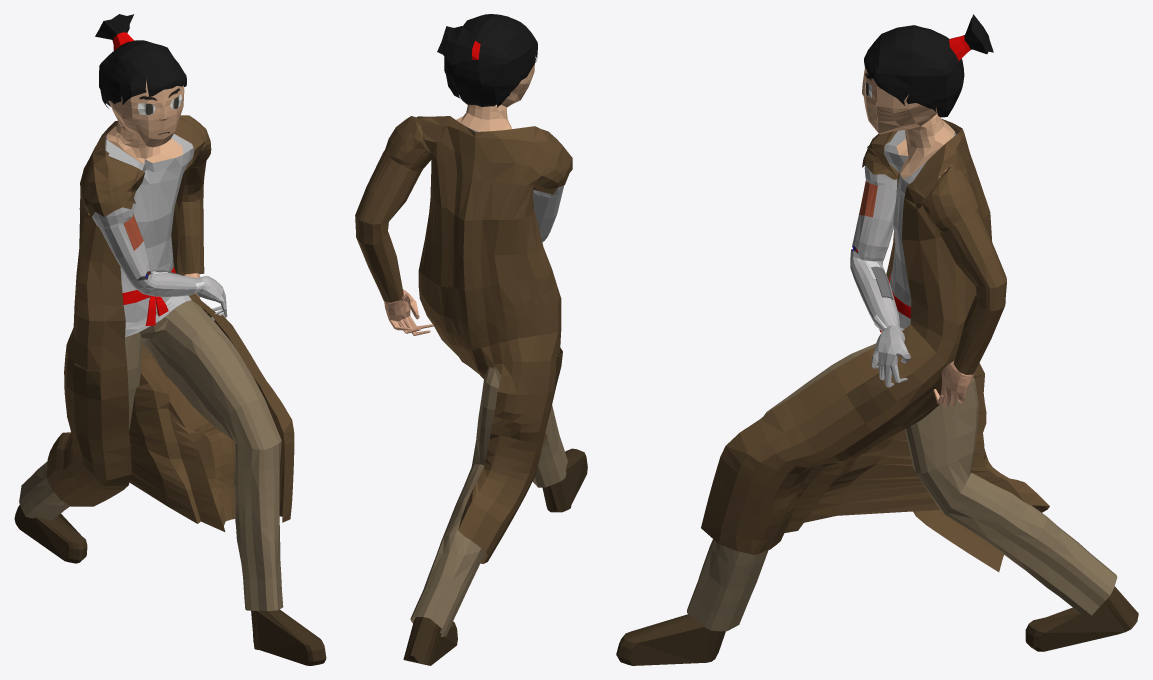
The model's file is One_RB_000011.obj.
3 renders of one model, left to right at view 1: azimuth 30°, elevation 25°; view 2: azimuth 150°, elevation 25°; view 3: azimuth 270°, elevation 25°, orthographic. The views are drawn at different scales.
Visible parts, largest first — view 1: Hair_Cube.004; view 2: Hair_Cube.004; view 3: Hair_Cube.004.
Part boxes in pixels (x1,y1,x2,y2): Hair_Cube.004: (14,14,326,665); Hair_Cube.004: (355,14,587,665); Hair_Cube.004: (616,14,1138,665).
Bounding box in the file's own units: 1.06 × 3.55 × 2.64.
